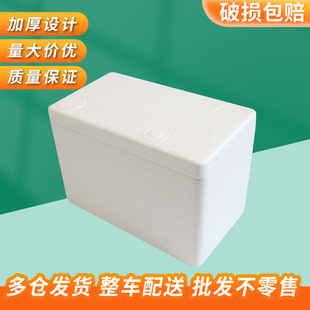Boxes: (49, 73, 255, 266)
